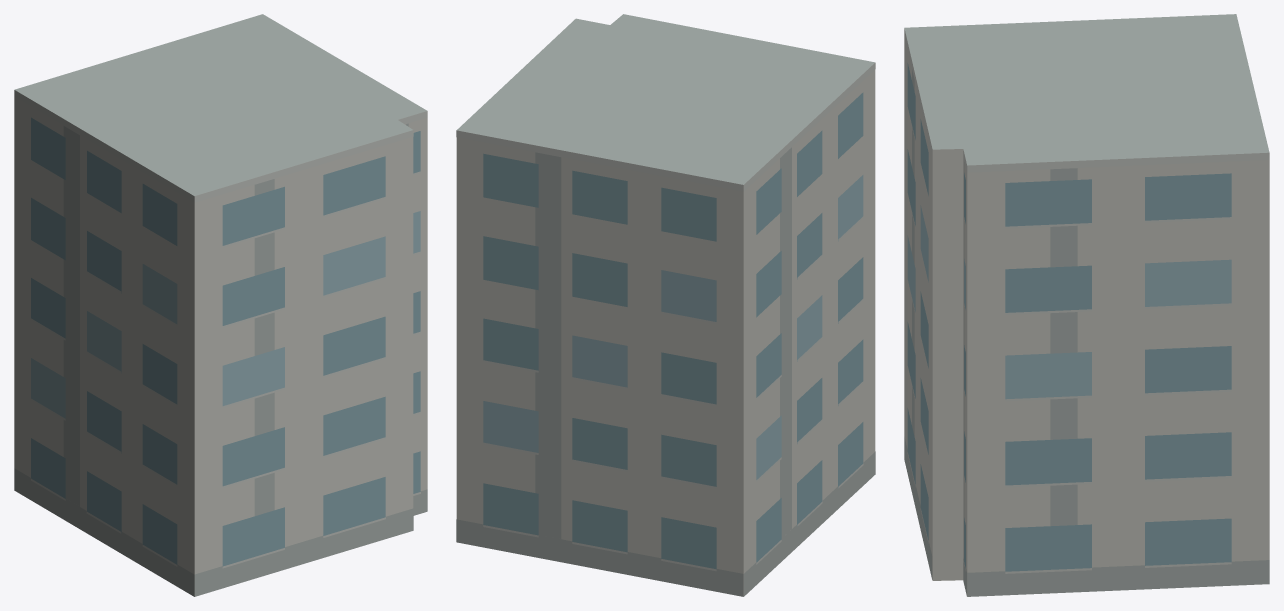
Rendered from survey-upis-32564871.glb.
3 renders of one model, left to right at view 1: azimuth 30°, elevation 25°; view 2: azimuth 150°, elevation 25°; view 3: azimuth 270°, elevation 25°, orthographic. The views are drawn at different scales.
Parts seen in each view (by area): view 1: survey-upis-32564871.tmp; view 2: survey-upis-32564871.tmp; view 3: survey-upis-32564871.tmp.
Boxes of the visible parts, bbox=[...] form: survey-upis-32564871.tmp: bbox=[14, 14, 427, 596]; survey-upis-32564871.tmp: bbox=[456, 14, 875, 596]; survey-upis-32564871.tmp: bbox=[904, 14, 1269, 596].
Bounding box in the file's own units: 10.86 × 14.4 × 11.06.
